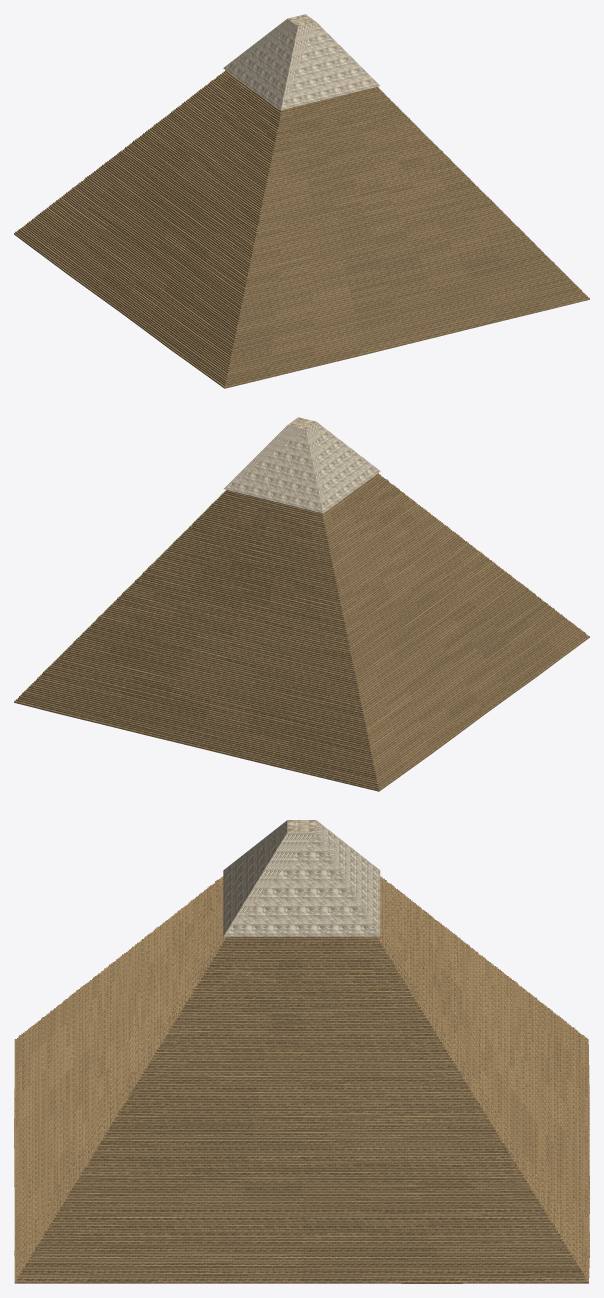
The model's file is giza_khafre.glb.
3 views of the same model, one above another, from view 1: azimuth 30°, elevation 25°; view 2: azimuth 150°, elevation 25°; view 3: azimuth 270°, elevation 25° (orthographic). The views are drawn at different scales.
Visible parts, largest first — view 1: Khafre; view 2: Khafre; view 3: Khafre.
Boxes of the visible parts, <box> form: Khafre: <box>14,14,589,388</box>; Khafre: <box>14,417,589,791</box>; Khafre: <box>14,820,589,1283</box>.
Bounding box in the file's own units: 212 × 136 × 212.
2 materials, 2 textured.
